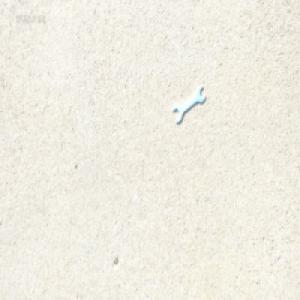Wrench: (173, 86, 204, 123)
